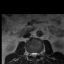CCS_normal: (33, 50, 35, 60)
LFS_normal: (38, 50, 40, 57)
LLS_normal: (35, 50, 38, 58)
RFS_normal: (29, 50, 31, 58)
RLS_normal: (31, 50, 33, 58)
